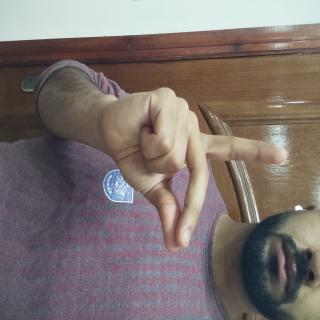TAA: (58, 41, 194, 300)
